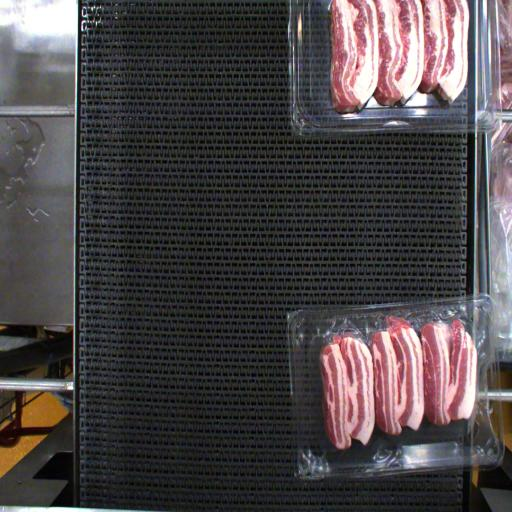unsealed: (297, 296, 490, 470)
